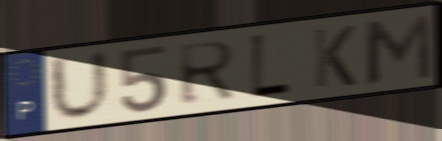5: (119, 42, 171, 115)
K: (311, 23, 358, 91)
L: (247, 31, 295, 103)
M: (360, 11, 435, 87)
R: (176, 38, 240, 109)
U: (46, 46, 114, 124)
